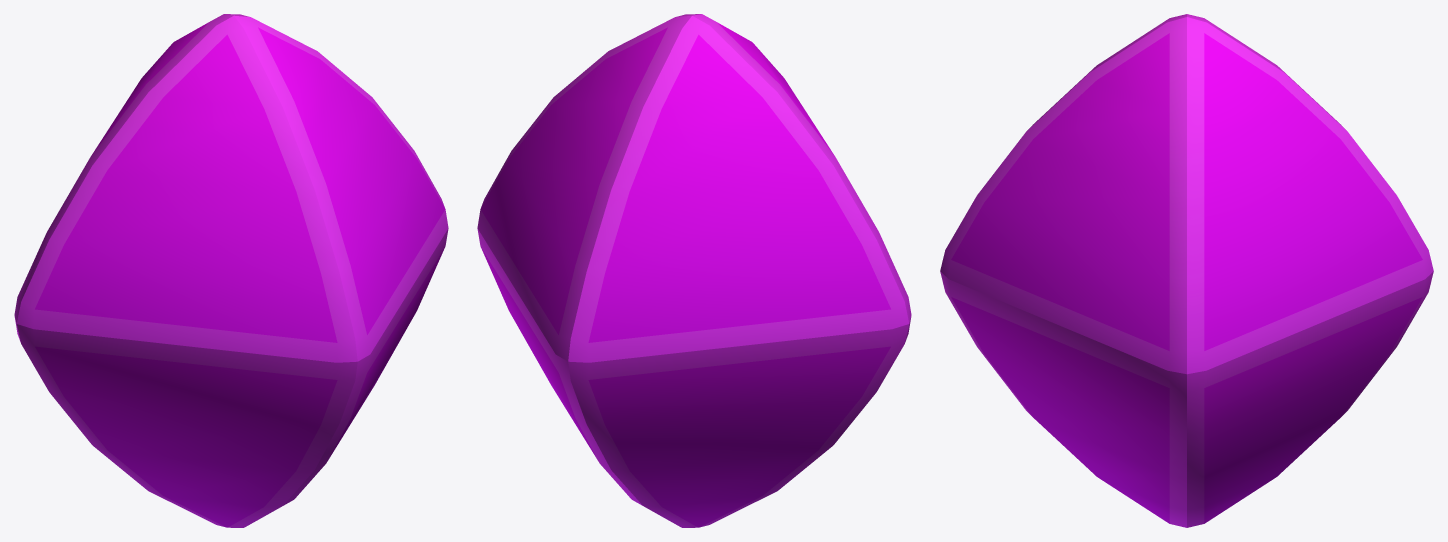
The model's file is Gem_V1_02.fbx.
3 views of the same model, side by side, from view 1: azimuth 30°, elevation 25°; view 2: azimuth 150°, elevation 25°; view 3: azimuth 270°, elevation 25° (orthographic).
Parts seen in each view (by area): view 1: Gem_V1_02; view 2: Gem_V1_02; view 3: Gem_V1_02.
Part boxes in pixels (left/top/right/bottom): Gem_V1_02: left=14, top=14, right=448, bottom=527; Gem_V1_02: left=477, top=14, right=911, bottom=527; Gem_V1_02: left=940, top=14, right=1433, bottom=527.
Size of the model in its own units: 34.95 by 39.7 by 34.95.
